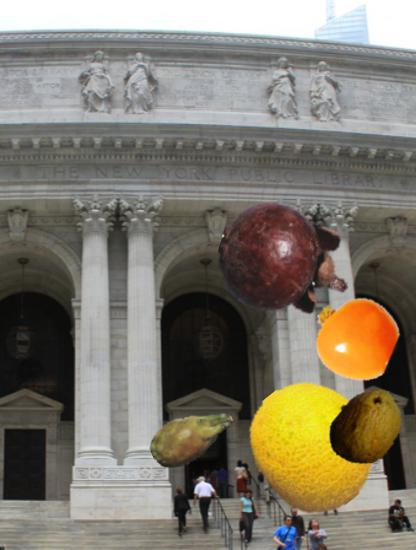Cactus: (148, 393, 237, 482)
Cantaloupe: (248, 378, 382, 512)
Mangostan: (218, 193, 355, 330)
Papaya: (325, 385, 409, 469)
Physalis: (312, 295, 398, 381)
